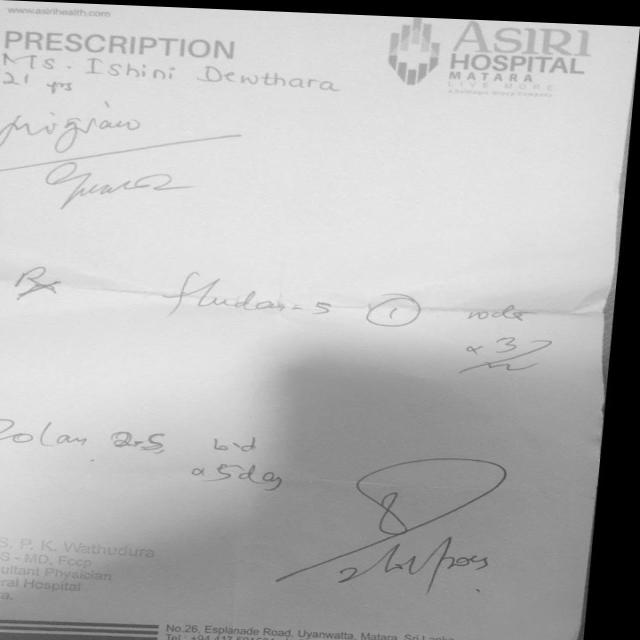Prescription: (155, 260, 564, 374), (0, 404, 302, 494)
